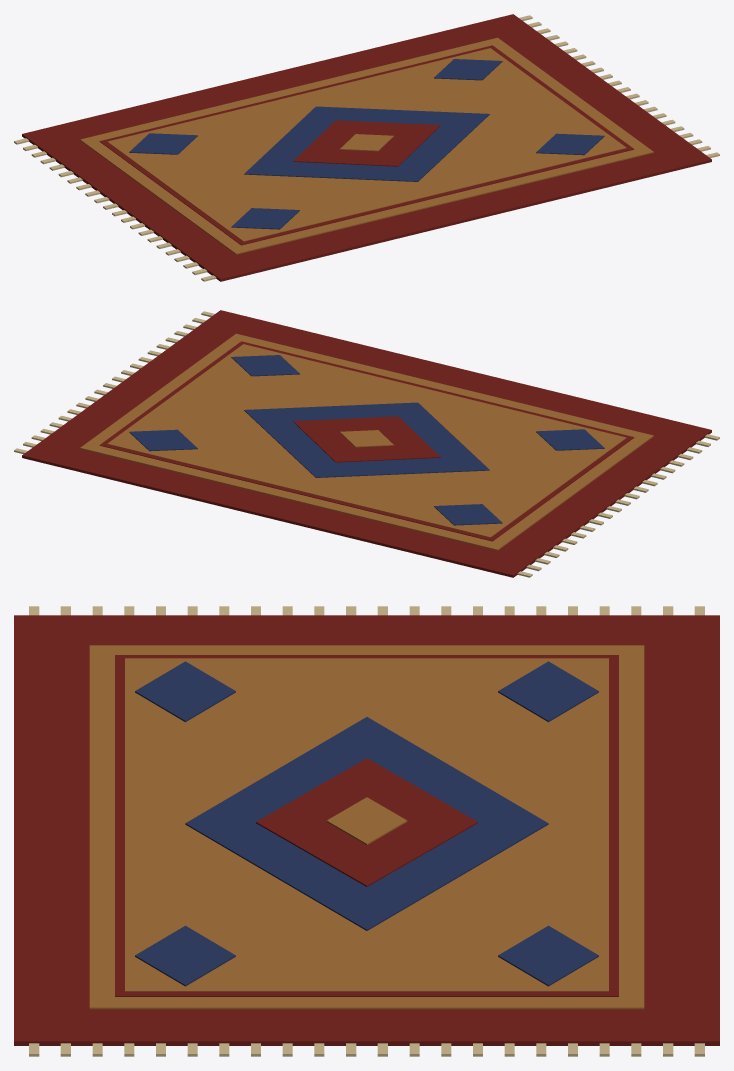
Rendered from rug.obj.
The picture shows the model from 3 angles, top to bottom: view 1: azimuth 30°, elevation 25°; view 2: azimuth 150°, elevation 25°; view 3: azimuth 270°, elevation 25°; orthographic projection. The views are drawn at different scales.
Parts seen in each view (by area): view 1: box.003, box, box.001, prism, box.002, prism.001, prism.003, prism.004, prism.005, prism.006, prism.002; view 2: box.003, box, box.001, prism, box.002, prism.001, prism.003, prism.004, prism.006, prism.005, prism.002; view 3: box.003, box, box.001, prism, prism.001, box.002, prism.003, prism.004, prism.005, prism.006, prism.002.
Part boxes in pixels (x1,y1,x2,y2): box.003: (107,48,626,241); box: (22,14,711,281); box.001: (80,37,653,254); prism: (244,106,489,181); box.002: (99,45,634,245); prism.001: (293,120,440,166); prism.003: (231,208,299,229); prism.004: (129,133,197,154); prism.005: (536,133,604,155); prism.006: (434,59,502,80); prism.002: (340,134,393,151); box.003: (107,344,626,537); box: (22,310,711,577); box.001: (80,333,653,550); prism: (244,402,489,477); box.002: (99,341,634,541); prism.001: (293,416,440,462); prism.003: (536,429,604,450); prism.004: (434,504,502,525); prism.006: (129,429,197,451); prism.005: (231,355,299,376); prism.002: (340,430,393,447); box.003: (125,658,608,991); box: (14,615,719,1045); box.001: (89,645,644,1009); prism: (185,717,548,930); prism.001: (256,758,477,886); box.002: (115,655,618,996); prism.003: (135,661,235,722); prism.004: (498,661,598,722); prism.005: (135,925,235,986); prism.006: (498,925,598,986); prism.002: (326,797,407,844).
Bounding box in the file's own units: 2.1 × 0.027 × 1.4.
